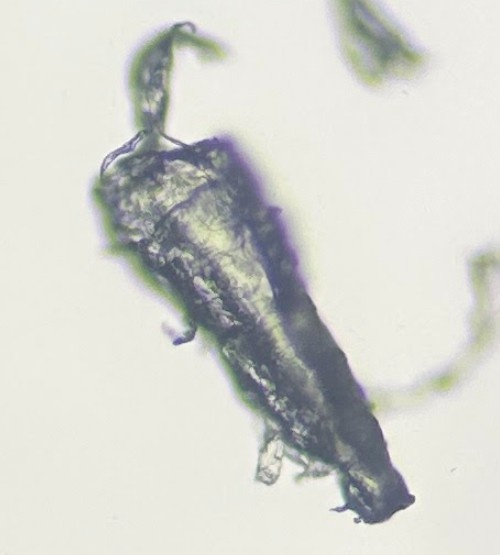microplastic: (87, 22, 415, 525), (371, 248, 500, 413), (326, 1, 426, 93)
